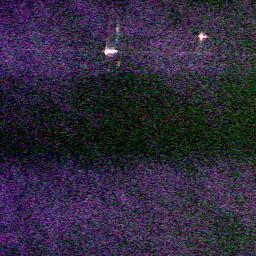Ship: (195, 30, 209, 41), (102, 46, 119, 55)
